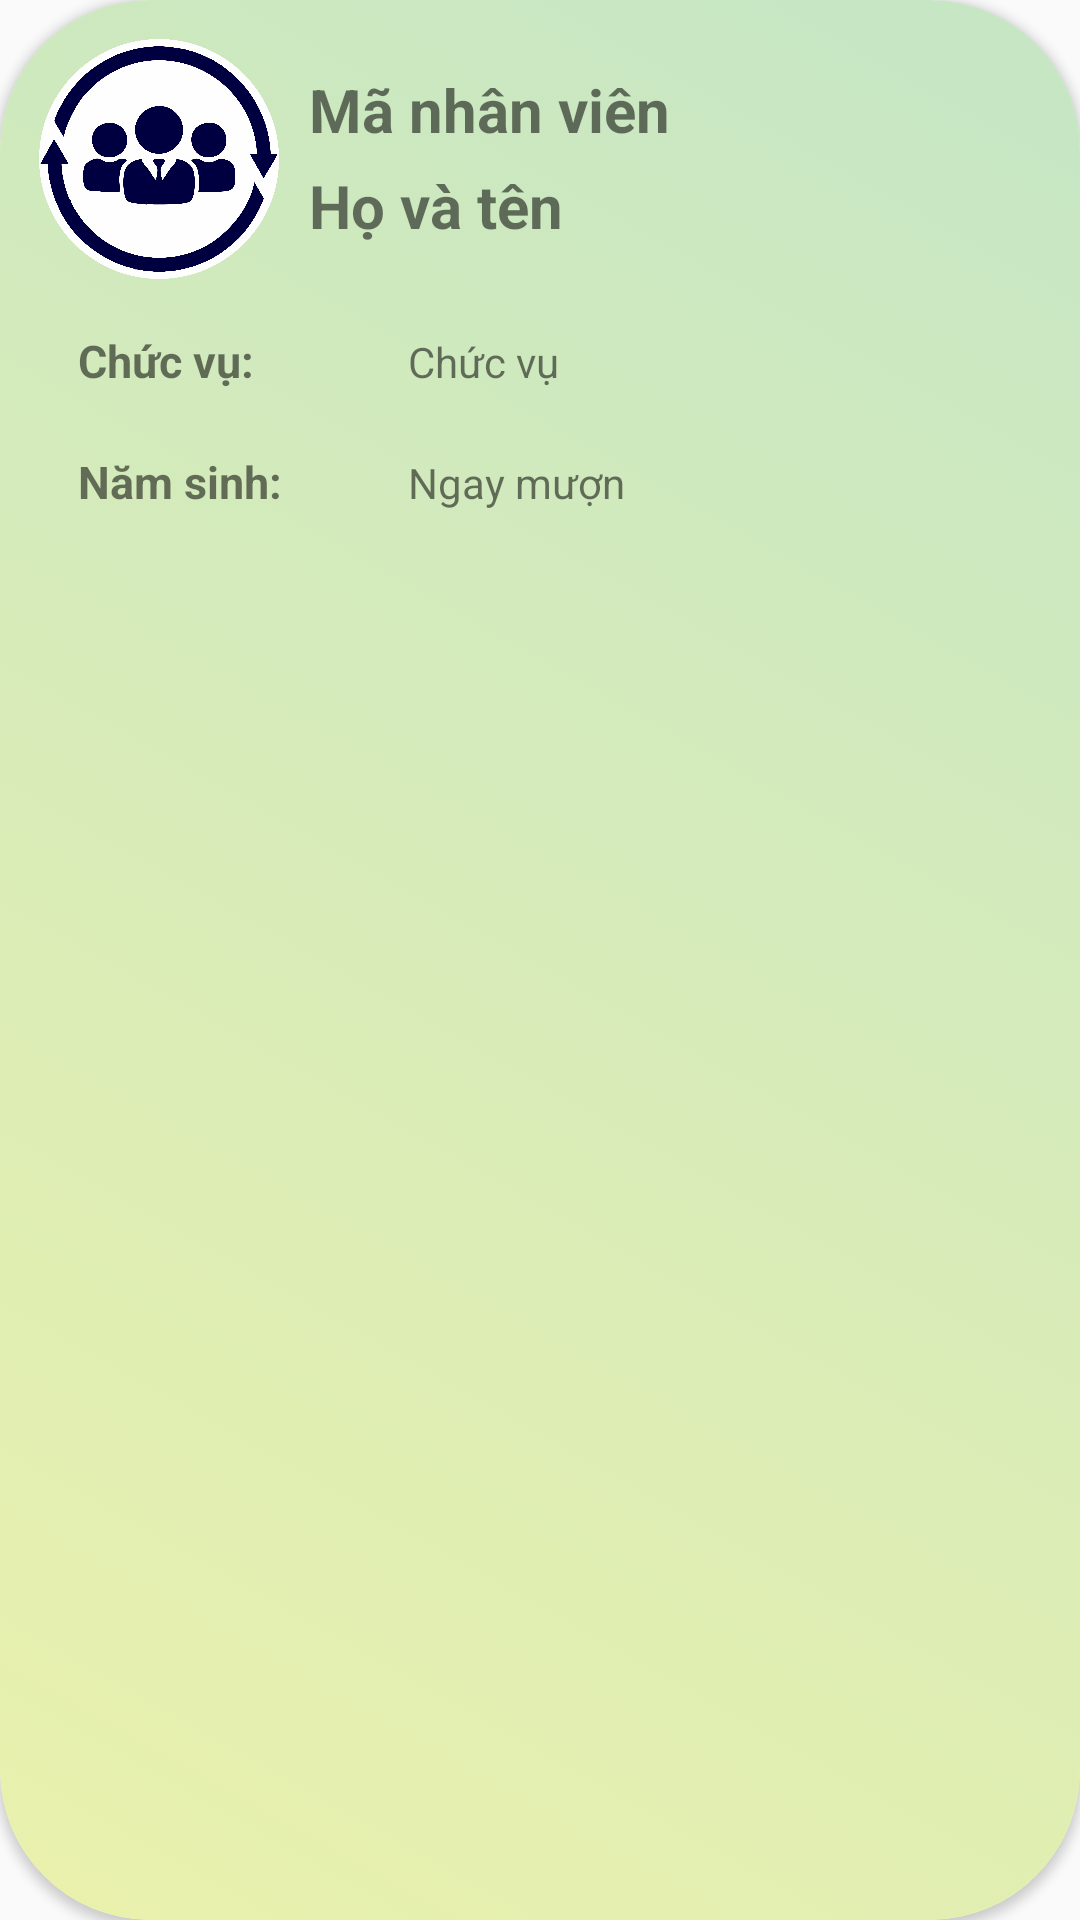

Screen size 1080x1920. Icon name, then its box in pixels as (x1, y1, x2, y2):
staffs: (39, 39, 279, 279)
